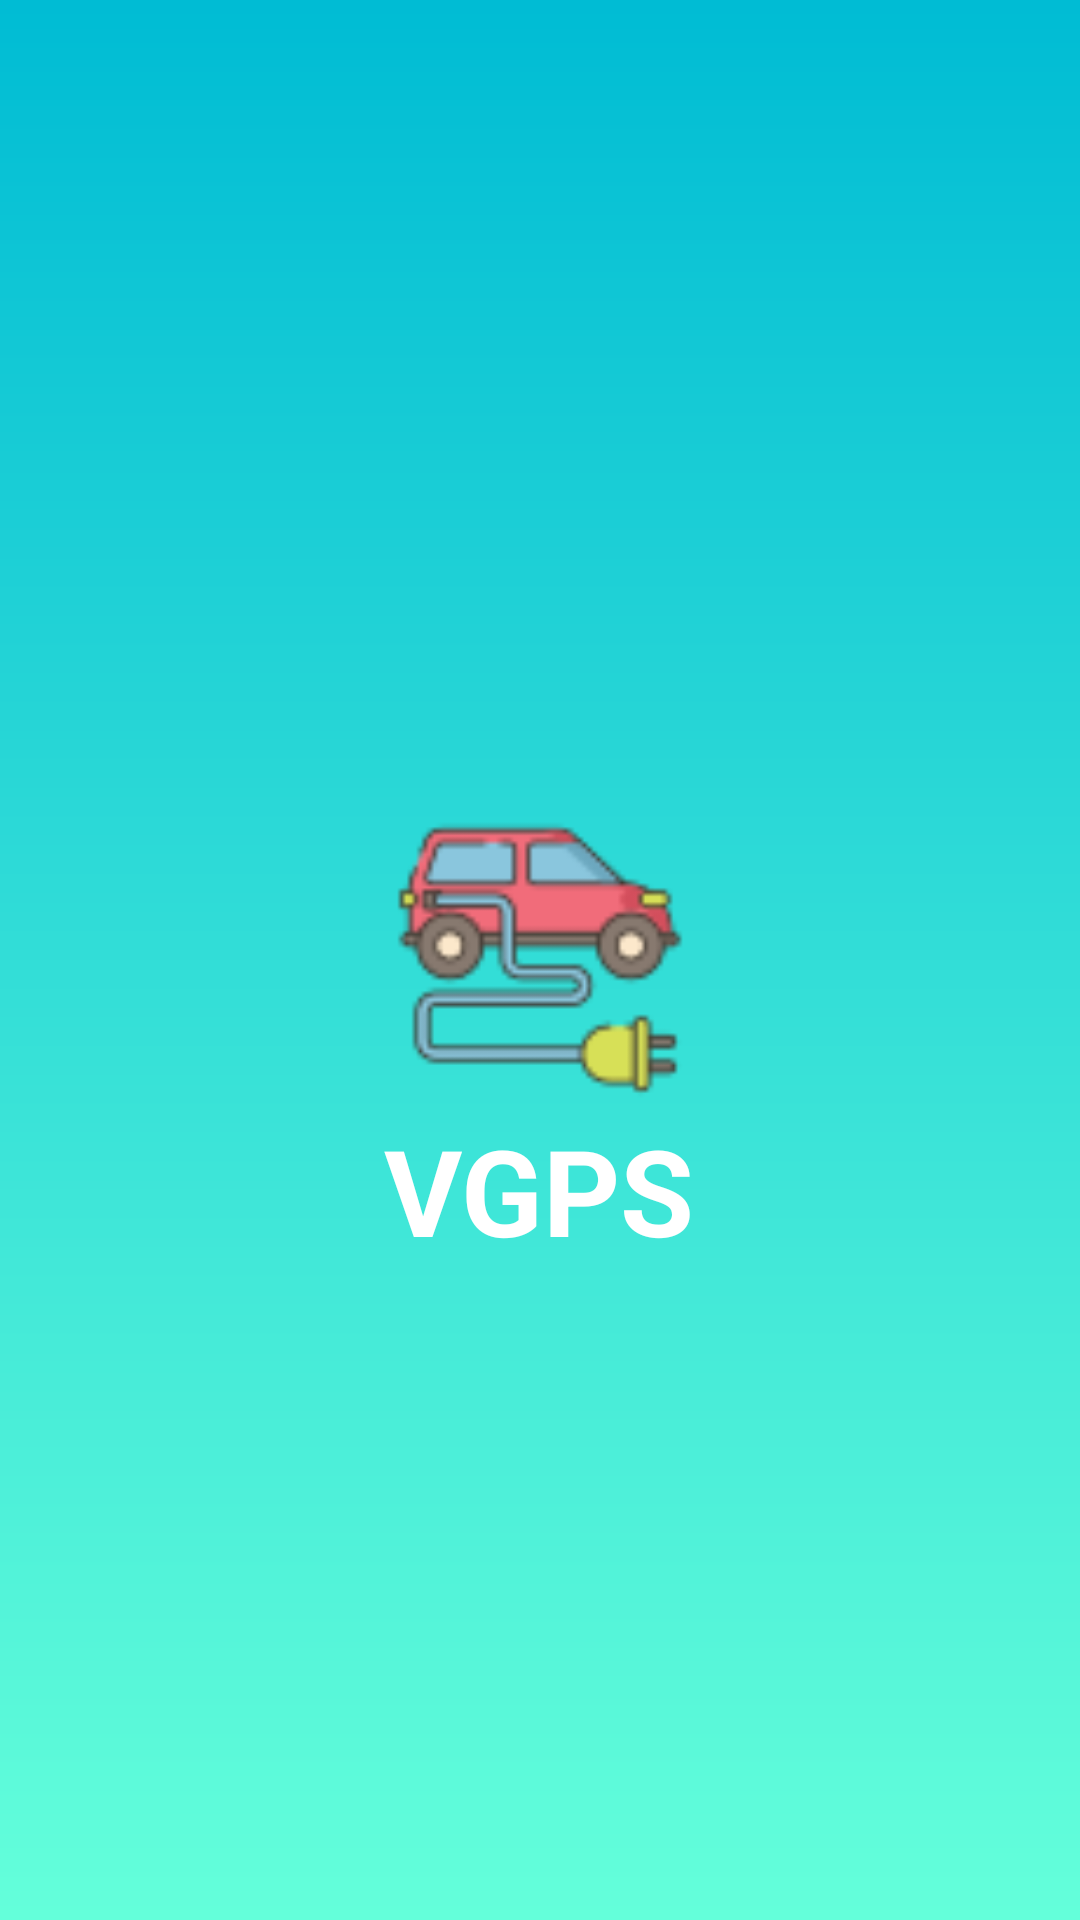

Point at icon controls on the screen. Image size 1080 x 1920, points as (x,y).
electriccar: (540,959)
